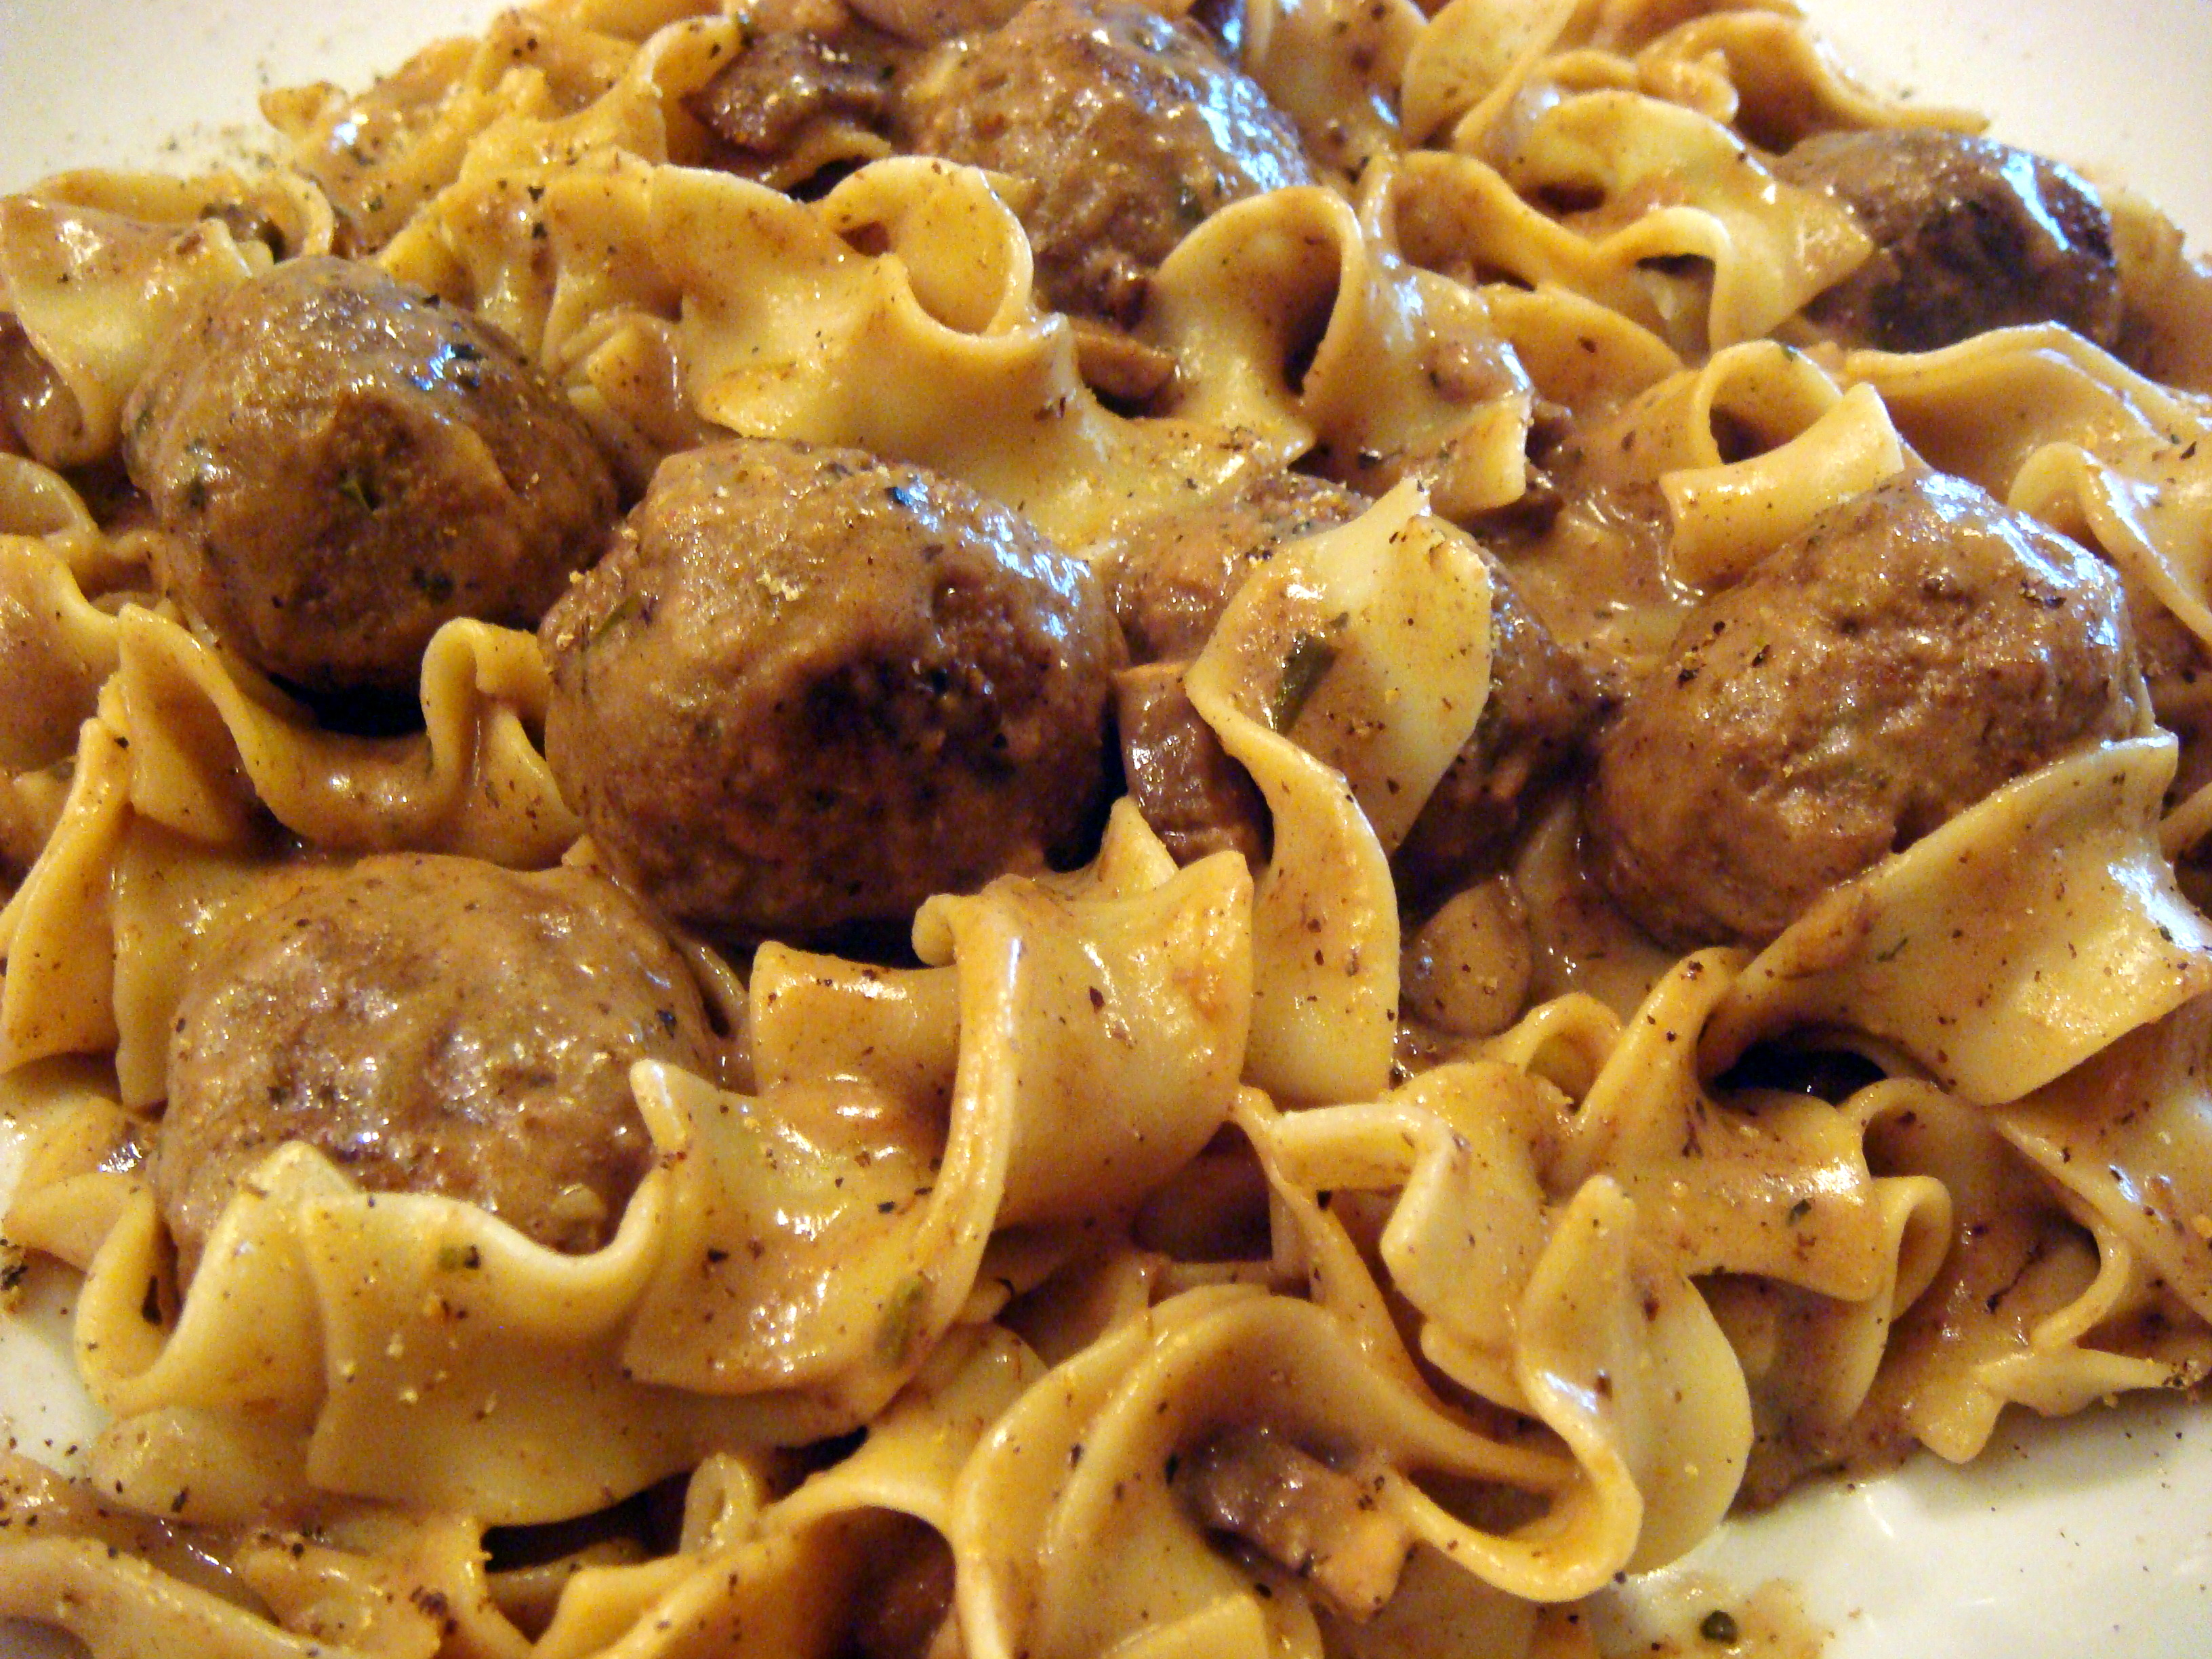meatballs: (547, 507, 1134, 903), (1592, 507, 2106, 875), (157, 293, 615, 676), (914, 28, 1292, 343)
plain spaghetti: (665, 1079, 1745, 1570)
